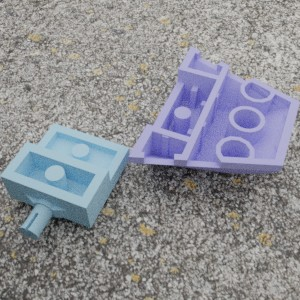lego: (128, 46, 299, 174), (0, 123, 130, 240)
